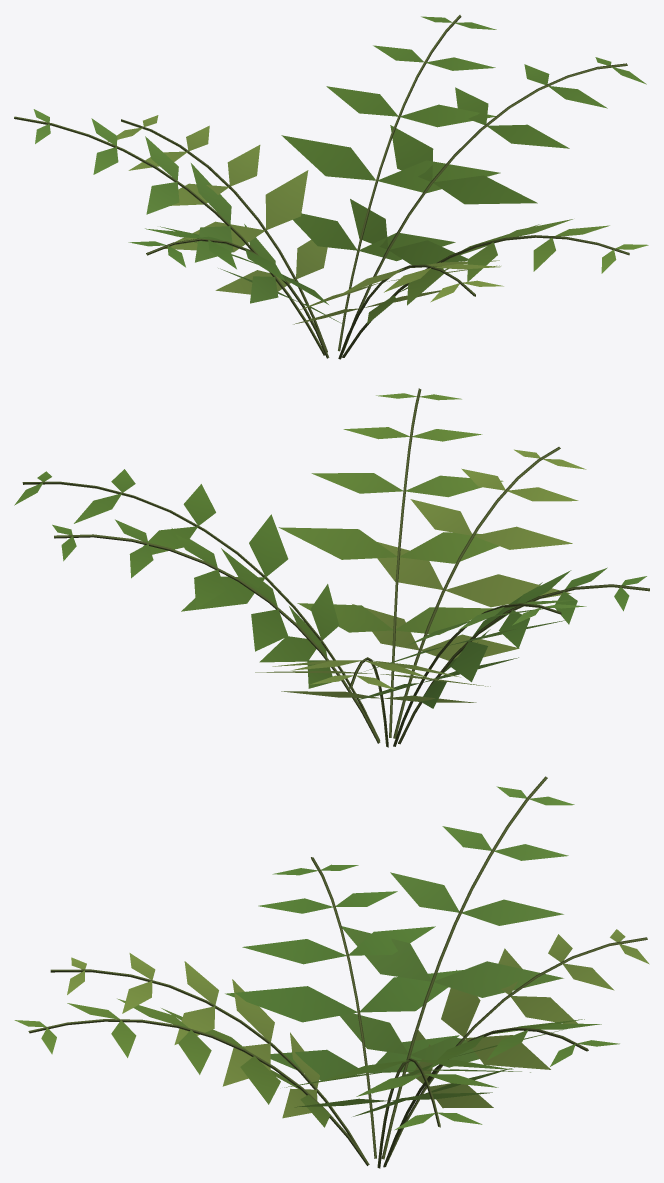
Rendered from fern-bracken-b.lod1.glb.
3 renders of one model, top to bottom at view 1: azimuth 30°, elevation 25°; view 2: azimuth 150°, elevation 25°; view 3: azimuth 270°, elevation 25°, orthographic. The views are drawn at different scales.
Visible parts, largest first — view 1: fern-bracken-b.lod1; view 2: fern-bracken-b.lod1; view 3: fern-bracken-b.lod1.
Boxes of the visible parts, x1,y1,x2,y2 form: fern-bracken-b.lod1: [14, 15, 648, 359]; fern-bracken-b.lod1: [14, 388, 649, 747]; fern-bracken-b.lod1: [14, 776, 649, 1168].
Size of the model in its own units: 2 by 0.8129 by 1.8.
